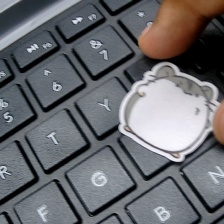mouse: (116, 60, 224, 172)
